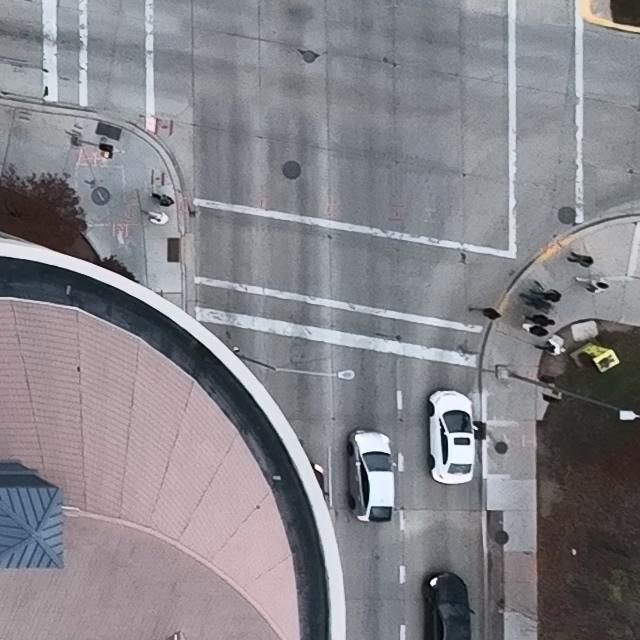car: (427, 390, 479, 484), (348, 430, 397, 523), (422, 571, 477, 640)
